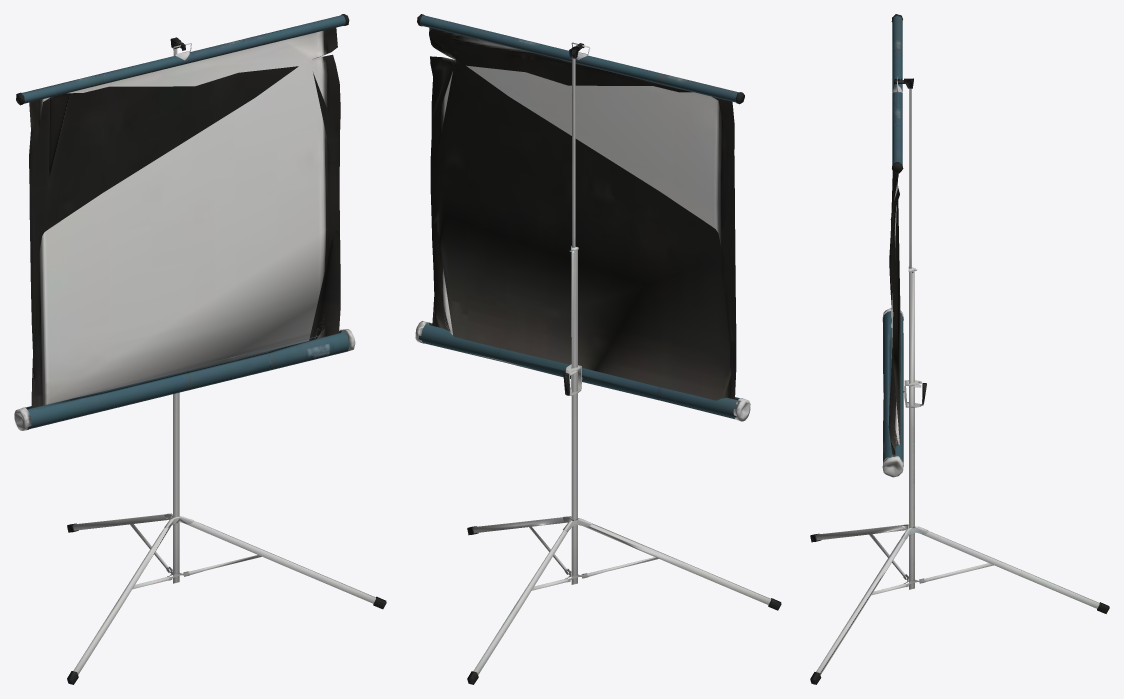
The model's file is cc0_projector_screen.glb.
The picture shows the model from 3 angles, left to right: view 1: azimuth 30°, elevation 25°; view 2: azimuth 150°, elevation 25°; view 3: azimuth 270°, elevation 25°; orthographic projection. The views are drawn at different scales.
Parts seen in each view (by area): view 1: projector_screen, projector_screen_frame; view 2: projector_screen, projector_screen_frame; view 3: projector_screen, projector_screen_frame.
Boxes of the visible parts, <box> form: projector_screen: <box>14,14,355,430</box>; projector_screen_frame: <box>67,392,386,684</box>; projector_screen: <box>415,14,750,421</box>; projector_screen_frame: <box>467,245,781,684</box>; projector_screen: <box>882,14,926,477</box>; projector_screen_frame: <box>810,267,1109,684</box>.
Bounding box in the file's own units: 1.09 × 1.8 × 0.9157.
Materials: 2 (2 with a texture image).
